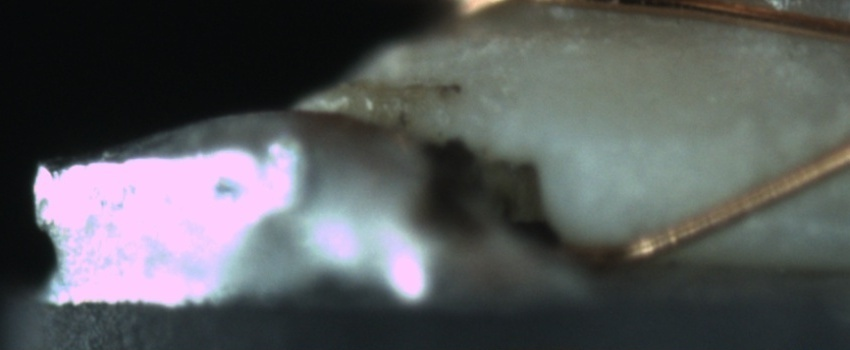DL: (567, 116, 721, 169)
